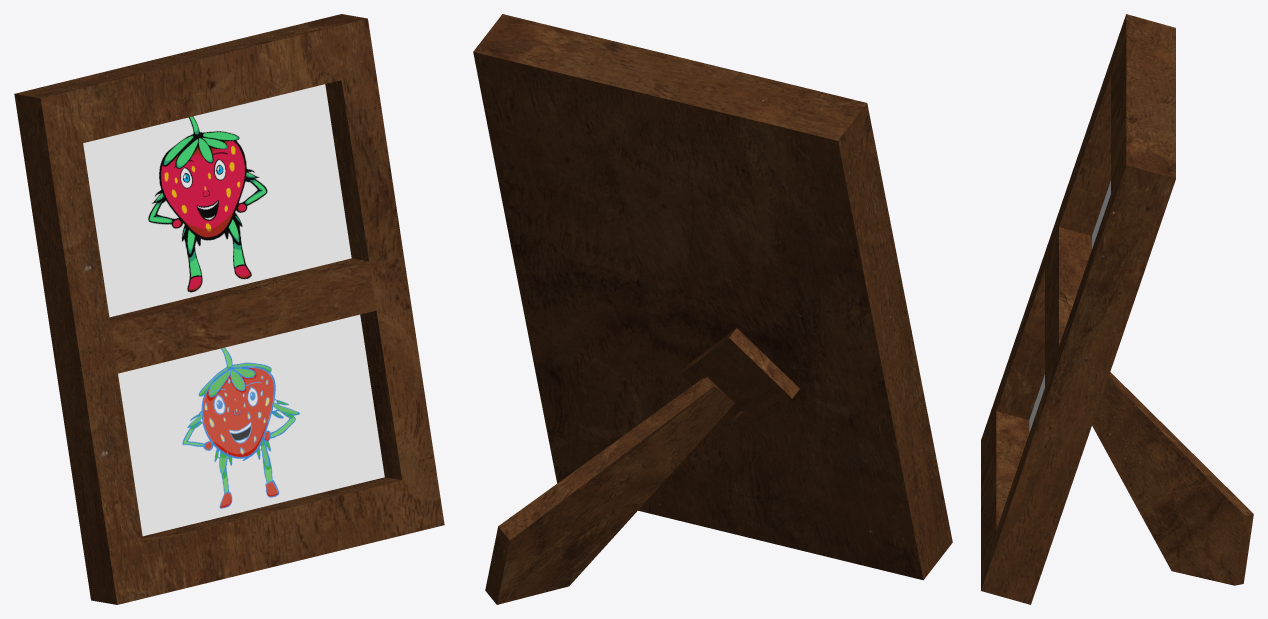
File: double_wooden_portrait.glb
3 renders of one model, left to right at view 1: azimuth 30°, elevation 25°; view 2: azimuth 150°, elevation 25°; view 3: azimuth 270°, elevation 25°, orthographic. The views are drawn at different scales.
Parts seen in each view (by area): view 1: Wooden Frame_1; view 2: Wooden Frame_1, Stand_0; view 3: Wooden Frame_1, Stand_0.
Boxes of the visible parts, x1,y1,x2,y2 form: Wooden Frame_1: [14, 14, 444, 604]; Wooden Frame_1: [473, 14, 952, 580]; Stand_0: [485, 377, 734, 604]; Wooden Frame_1: [981, 14, 1175, 604]; Stand_0: [1092, 372, 1253, 585].
Bounding box in the file's own units: 9.96 × 13.69 × 7.6.
2 materials, 2 textured.
